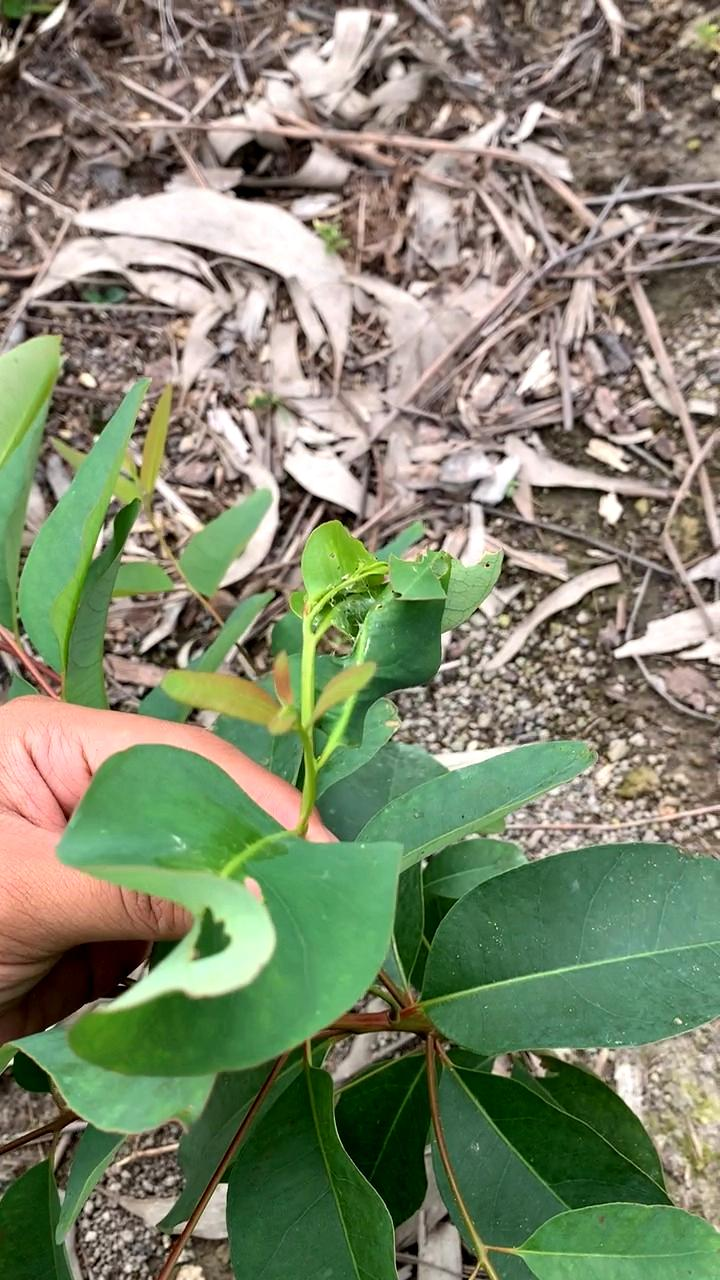Leaf Roller - Leaf: (303, 525, 497, 699)
